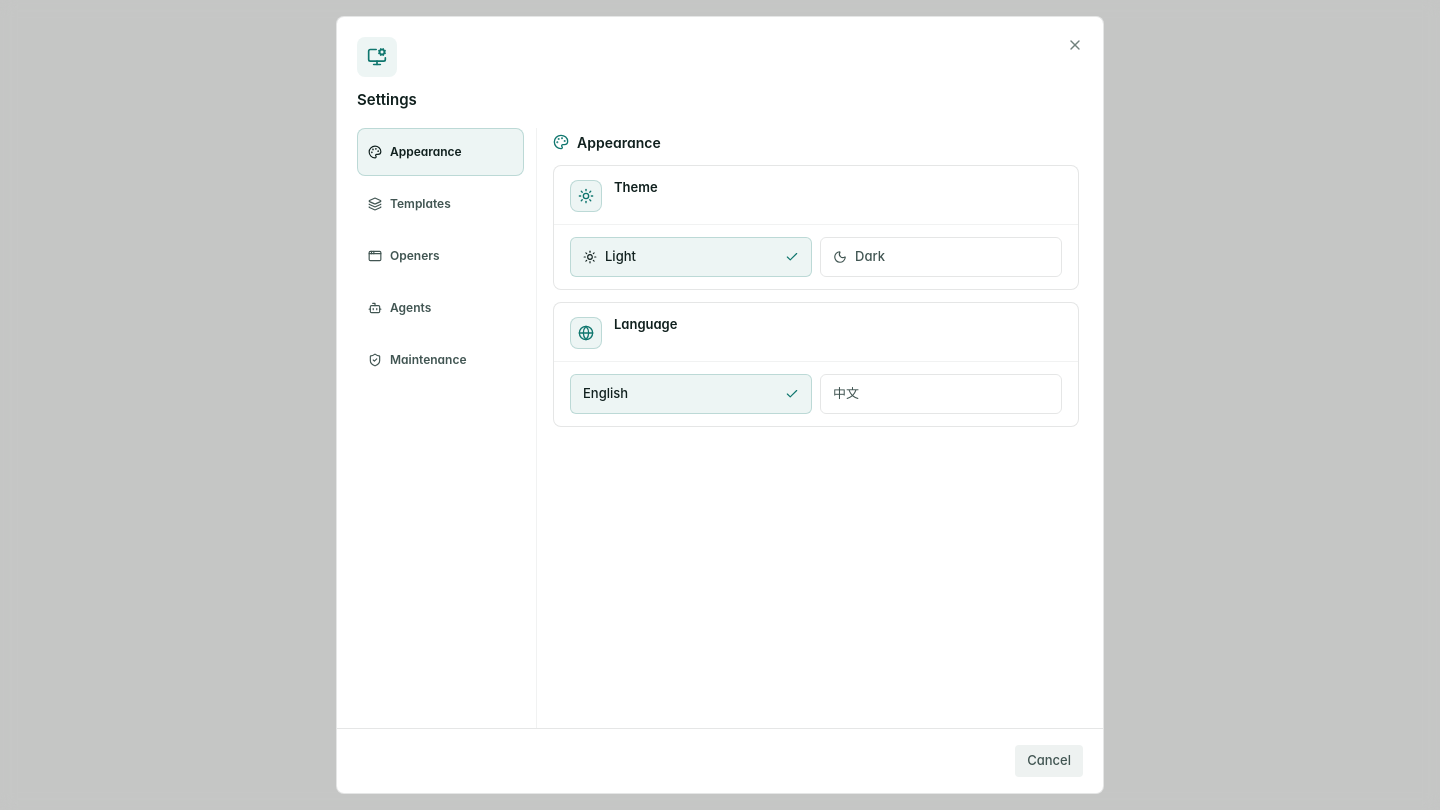
Test: SettingsModal › opens the template center from settings
Click the button "Templates". click: (440,204)
box: [357, 180, 524, 228]
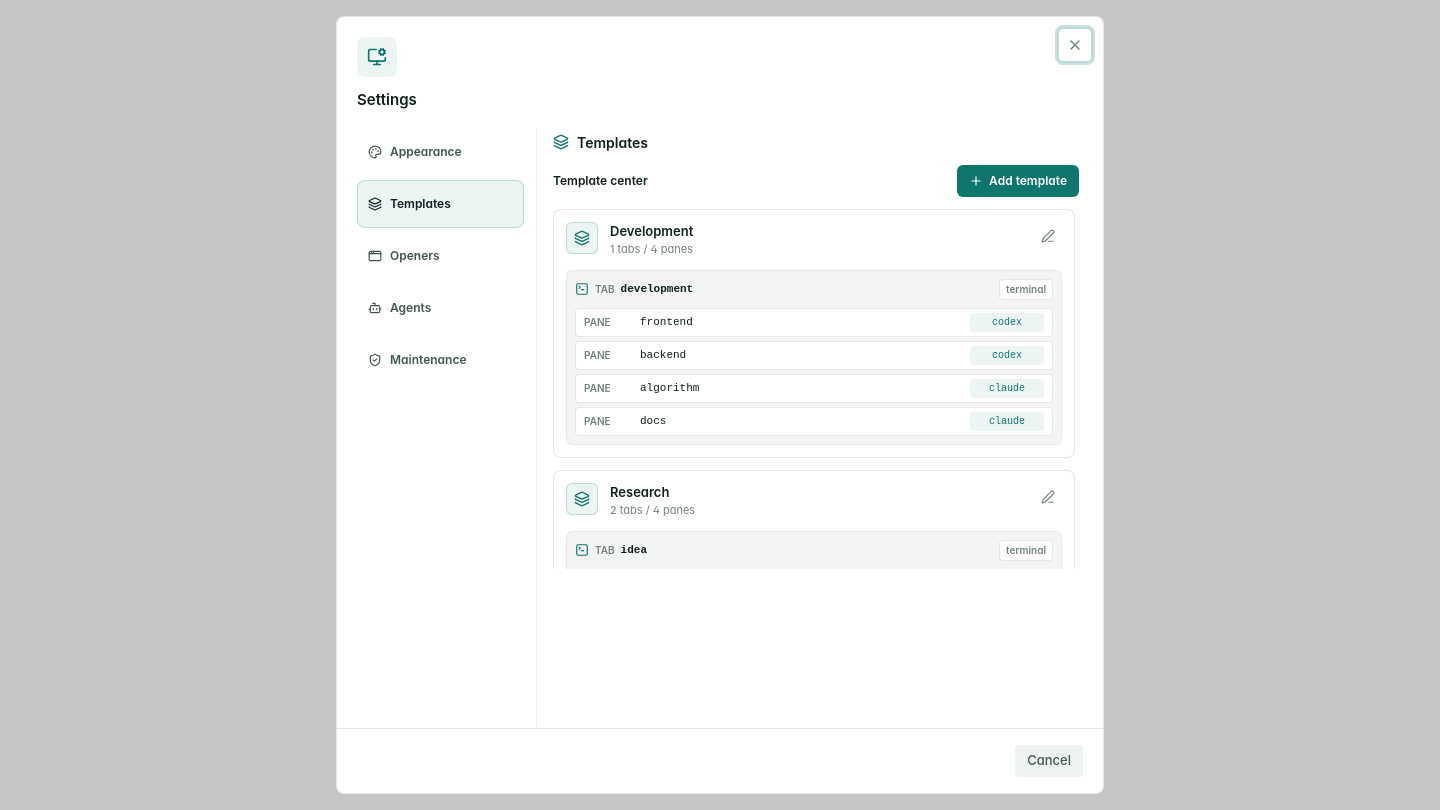
Result: the heading "Templates" is shown at [553, 134, 648, 150]
Result: the button "Add template" is shown at [957, 164, 1079, 196]
